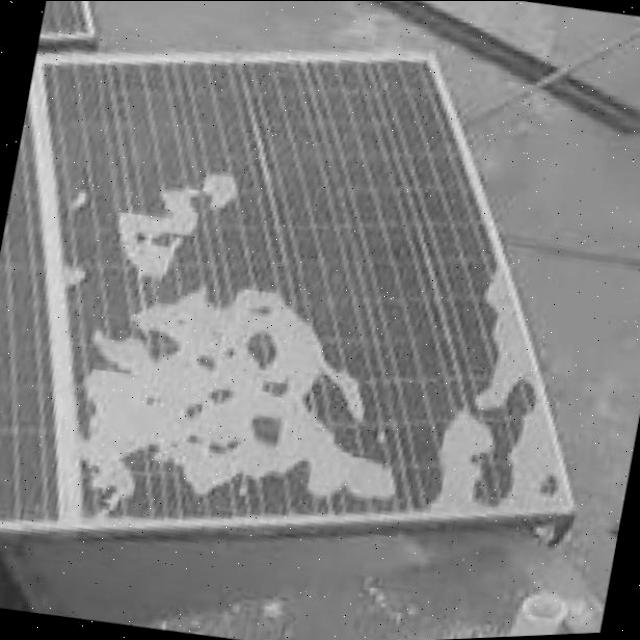Anomaly Solar Panel: (35, 52, 583, 525)
Snow: (69, 263, 403, 534), (421, 258, 635, 552), (105, 155, 263, 290)
